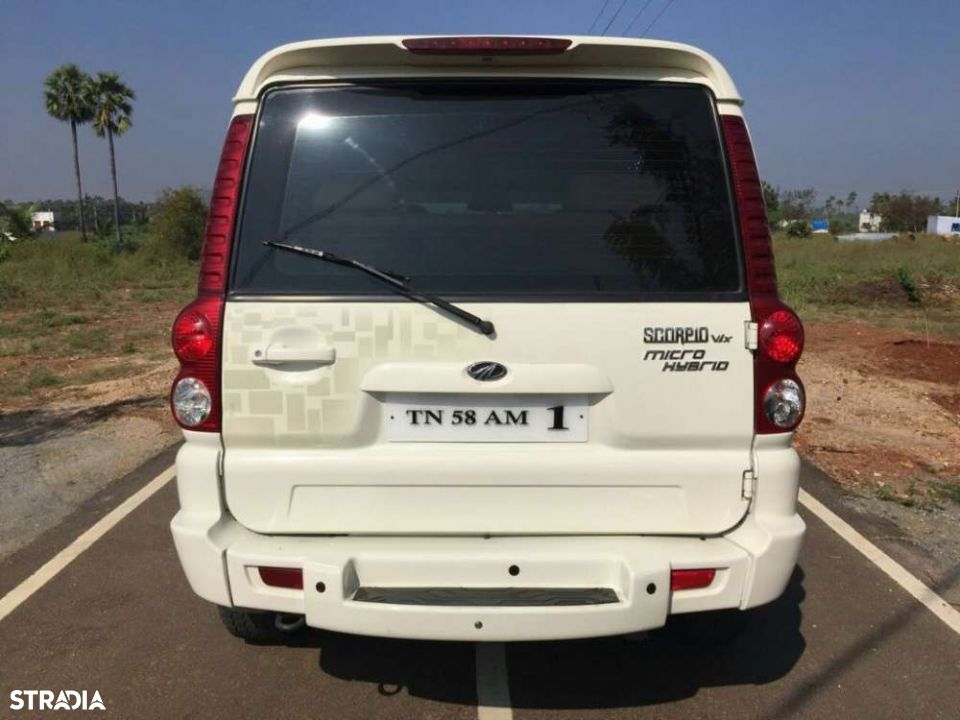number_plate: (379, 385, 598, 446)
